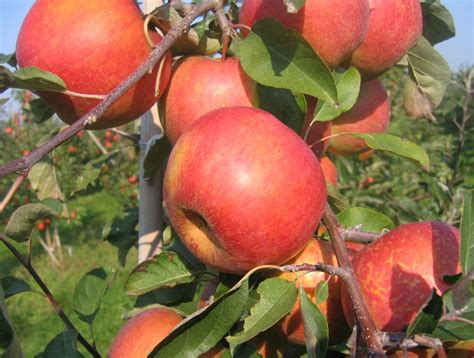apple: (160, 99, 329, 278)
